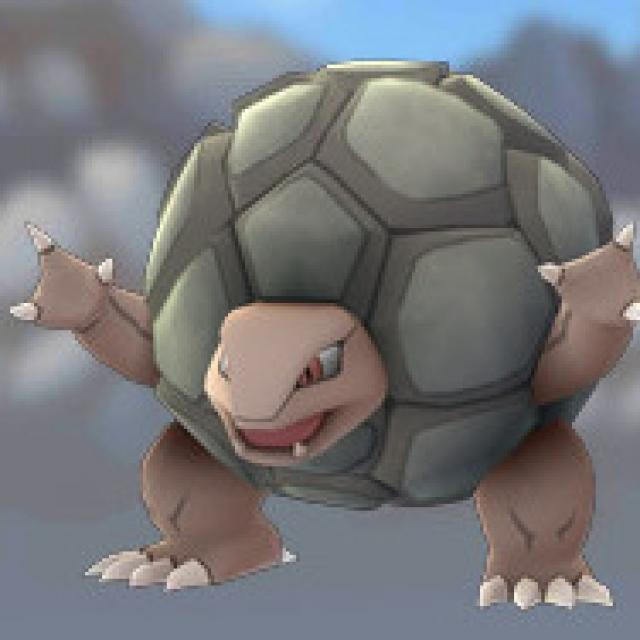Golem: (65, 66, 640, 589)
